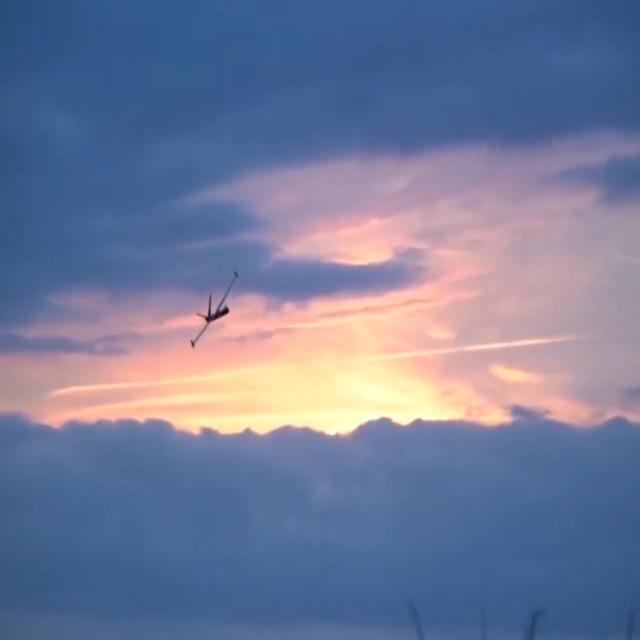iha: (188, 300, 239, 315)
